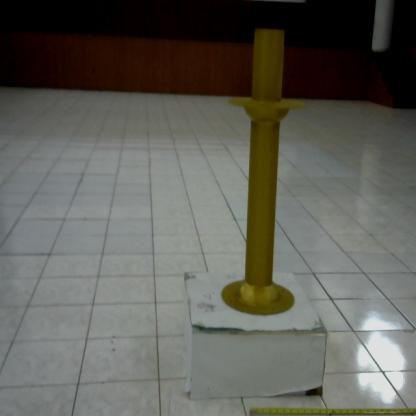pole: (211, 18, 312, 323)
